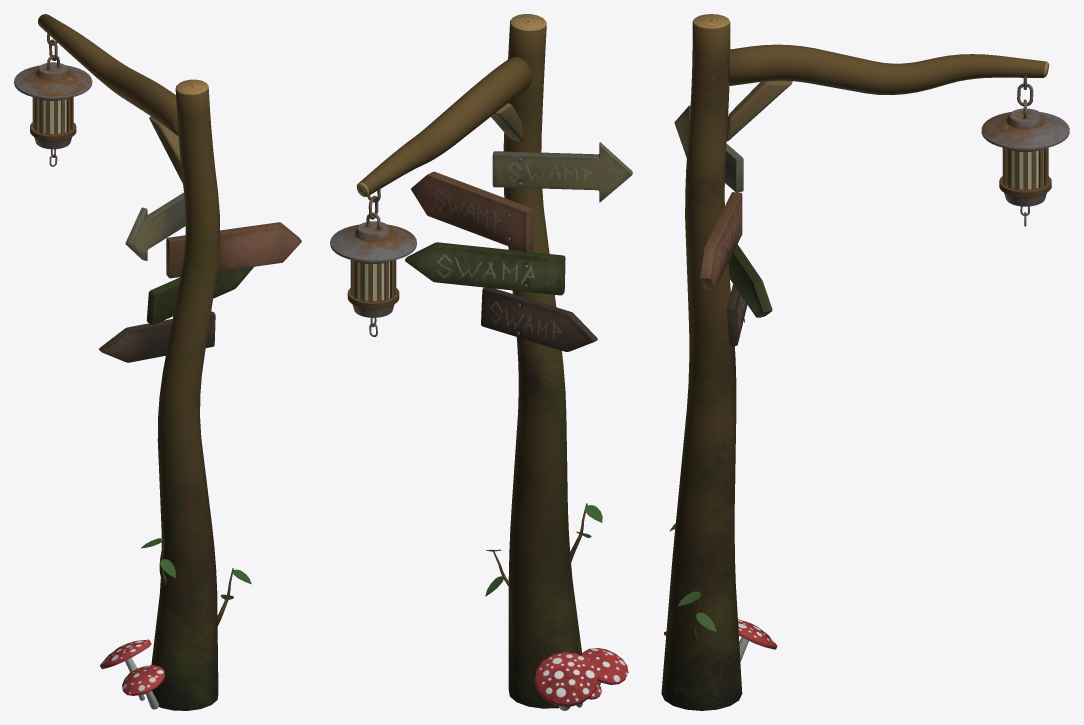
File: panneau_marecage_compressed.glb
3 views of the same model, side by side, from view 1: azimuth 30°, elevation 25°; view 2: azimuth 150°, elevation 25°; view 3: azimuth 270°, elevation 25° (orthographic). The views are drawn at different scales.
Visible parts, largest first — view 1: Panneau__0; view 2: Panneau__0; view 3: Panneau__0.
Boxes of the visible parts, box(x1,y1,x2,y2) form: Panneau__0: box(14, 14, 301, 710); Panneau__0: box(330, 14, 632, 710); Panneau__0: box(661, 14, 1069, 710).
Bounding box in the file's own units: 0.646 × 2 × 1.09.
Materials: 1 (1 with a texture image).
